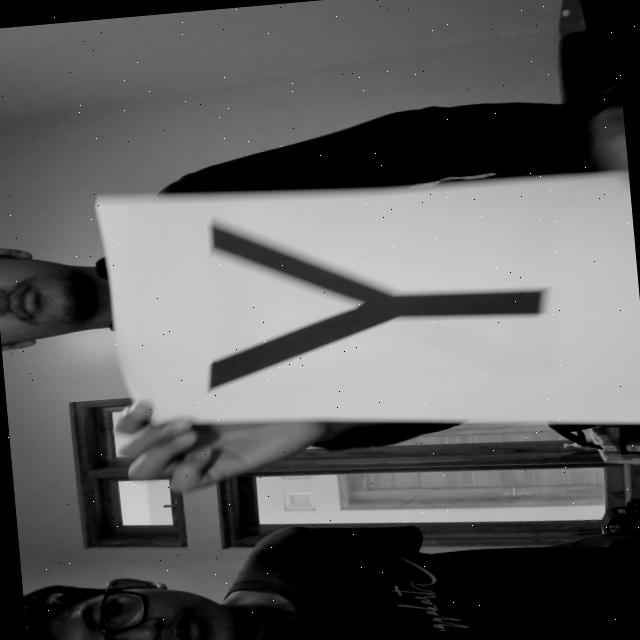y: (172, 188, 568, 418)
